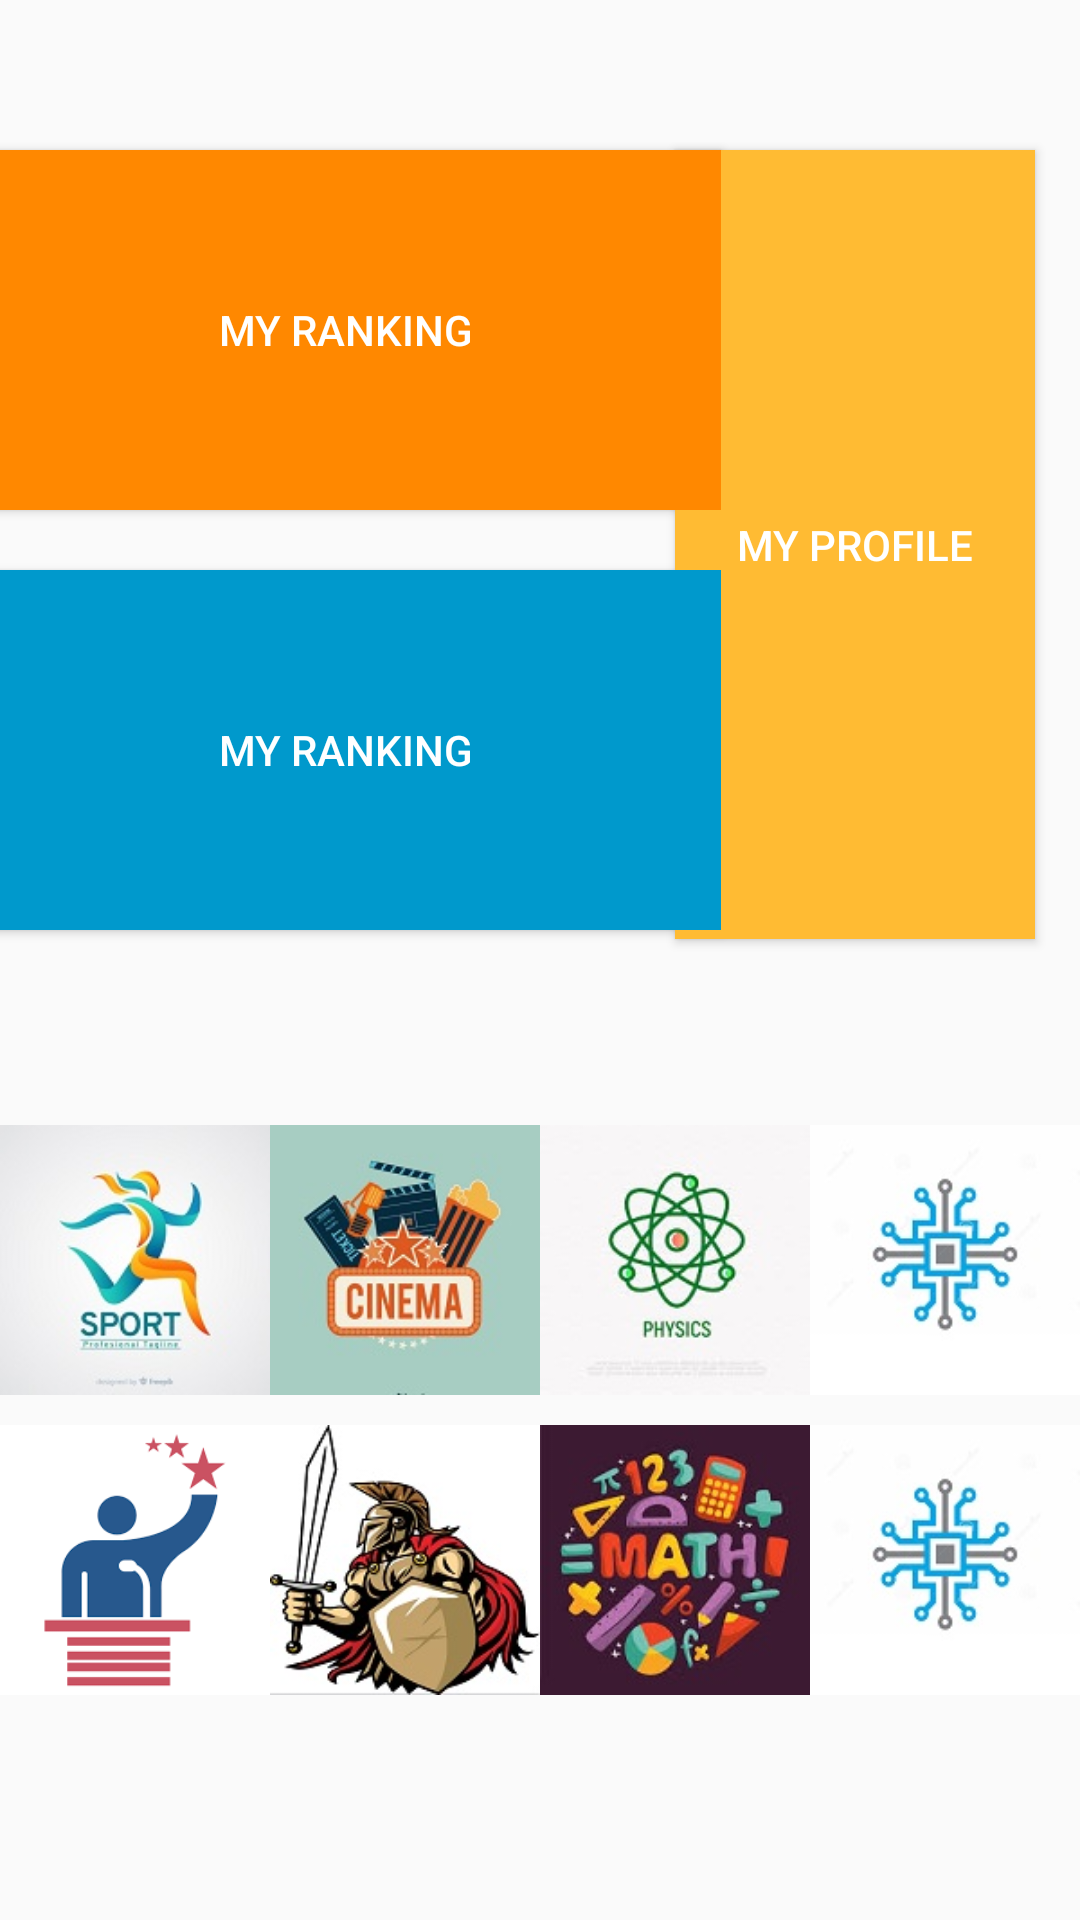

Screen size 1080x1920. Icon name, then its box in pixels as (x1, y1, x2, y2):
history: (270, 1425, 540, 1695)
politics: (44, 1435, 225, 1686)
tech: (872, 1178, 1018, 1331), (872, 1478, 1018, 1631)
